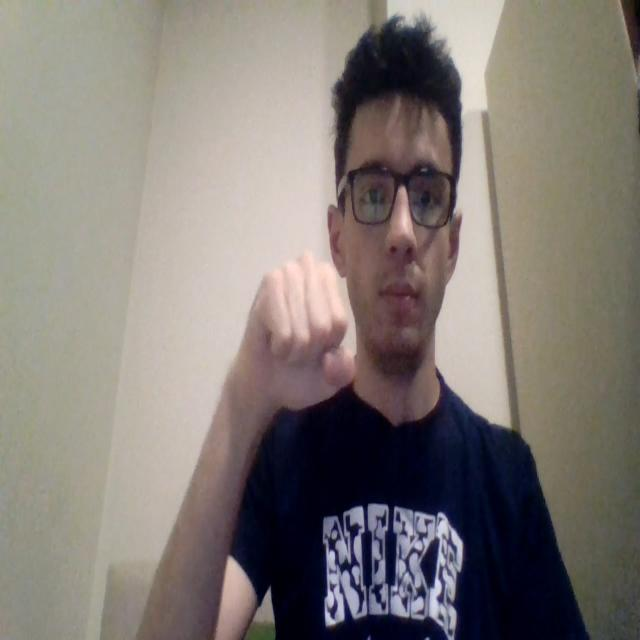yes: (240, 249, 356, 412)
